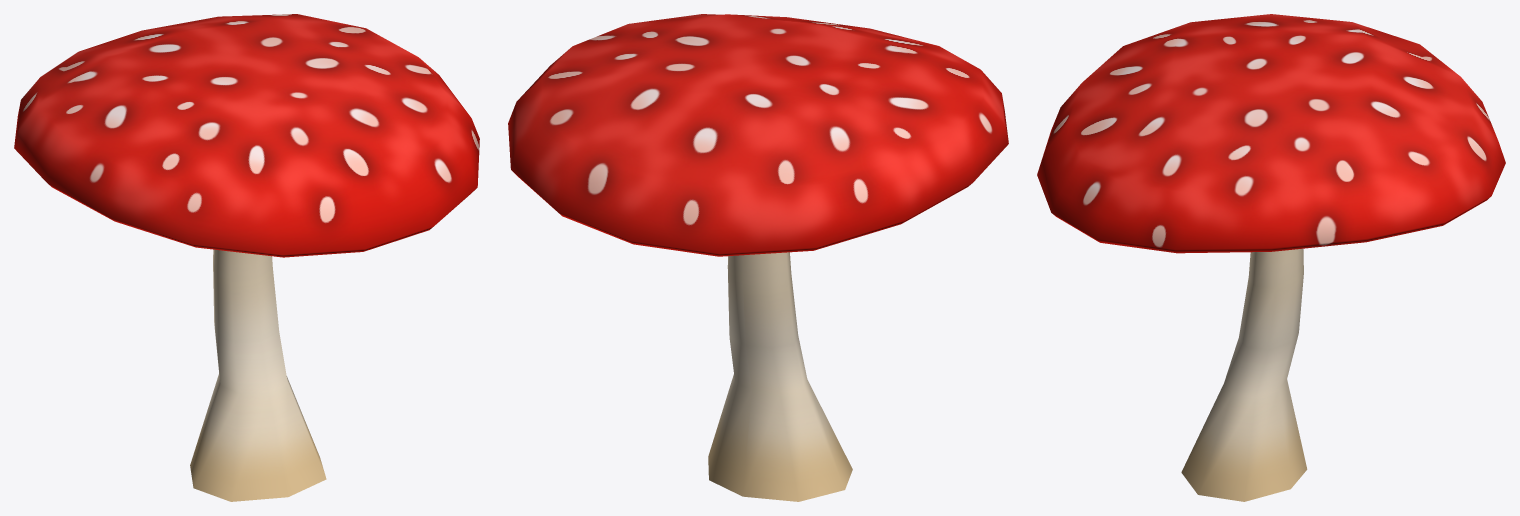
The model's file is o_mushy.fbx.
The picture shows the model from 3 angles, left to right: view 1: azimuth 30°, elevation 25°; view 2: azimuth 150°, elevation 25°; view 3: azimuth 270°, elevation 25°; orthographic projection. The views are drawn at different scales.
Parts seen in each view (by area): view 1: pPlane8, pCube2; view 2: pPlane8, pCube2; view 3: pPlane8, pCube2.
Boxes of the visible parts, x1=… form: pPlane8: x1=14, y1=14, x2=479, y2=257; pCube2: x1=190, y1=249, x2=326, y2=501; pPlane8: x1=508, y1=14, x2=1008, y2=256; pCube2: x1=708, y1=252, x2=852, y2=501; pPlane8: x1=1037, y1=14, x2=1505, y2=253; pCube2: x1=1181, y1=248, x2=1307, y2=501.
Size of the model in its own units: 4.73 by 4.5 by 4.82.
Materials: 1 (1 with a texture image).
